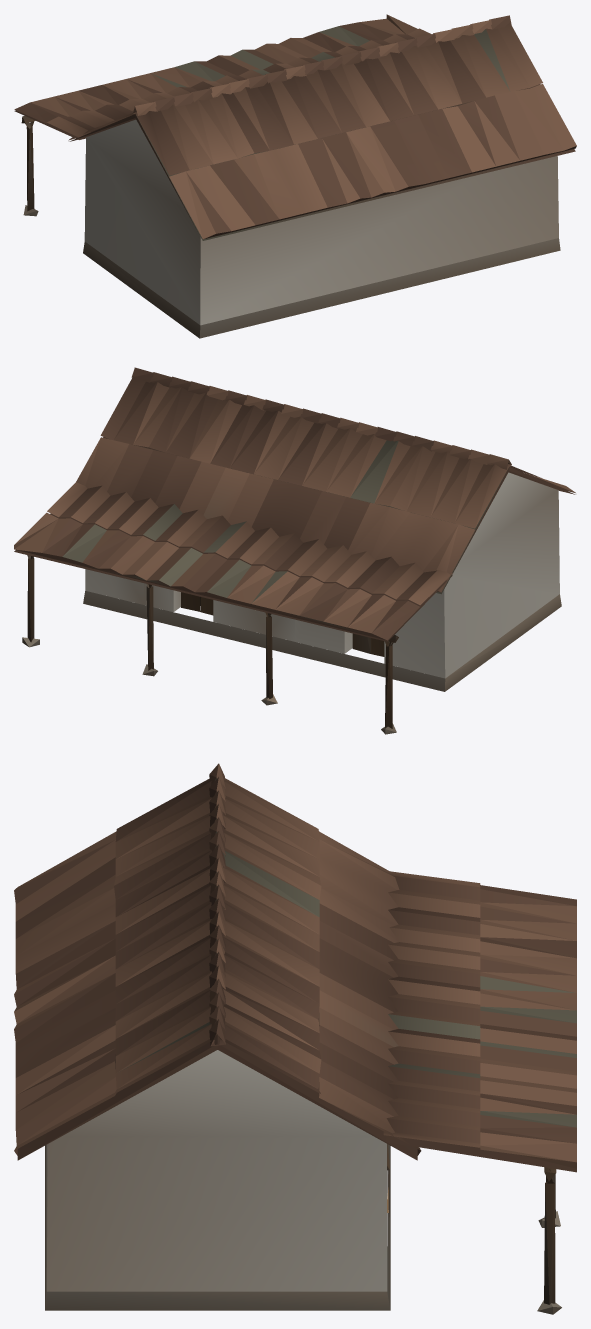
Rendered from casa_galeria_b_lod.glb.
The picture shows the model from 3 angles, top to bottom: view 1: azimuth 30°, elevation 25°; view 2: azimuth 150°, elevation 25°; view 3: azimuth 270°, elevation 25°; orthographic projection. The views are drawn at different scales.
Parts seen in each view (by area): view 1: casa_galeria_b; view 2: casa_galeria_b; view 3: casa_galeria_b.
Part boxes in pixels (<box>): casa_galeria_b: <box>14,14,576,338</box>; casa_galeria_b: <box>14,367,575,734</box>; casa_galeria_b: <box>14,763,576,1314</box>.
Bounding box in the file's own units: 9.45 × 4.6 × 8.31.
